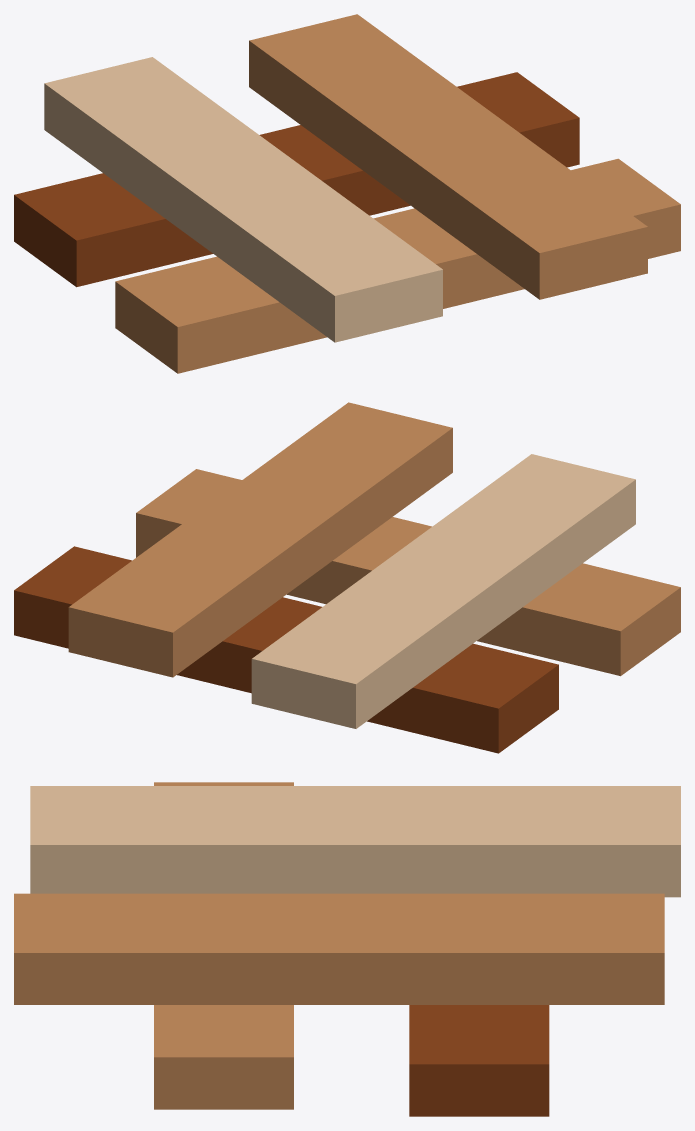
Rendered from planks.obj.
3 views of the same model, one above another, from view 1: azimuth 30°, elevation 25°; view 2: azimuth 150°, elevation 25°; view 3: azimuth 270°, elevation 25° (orthographic). The views are drawn at different scales.
Parts seen in each view (by area): view 1: Planks; view 2: Planks; view 3: Planks.
Part boxes in pixels (x1,y1,x2,y2): Planks: (14,14,680,373); Planks: (14,402,680,753); Planks: (14,782,680,1116).
Size of the model in its own units: 1.62 by 0.28 by 1.62.
